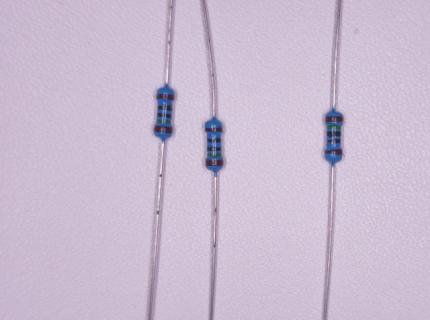Black band: (157, 112, 172, 119), (157, 105, 173, 111), (207, 146, 222, 152), (207, 138, 222, 143), (327, 131, 341, 136), (327, 139, 341, 143)
Brown band: (154, 125, 173, 134), (156, 94, 175, 101), (205, 160, 224, 166), (325, 116, 344, 122), (205, 127, 223, 133), (325, 149, 343, 155)
Green band: (157, 120, 171, 125), (327, 125, 341, 130), (207, 153, 222, 157)
